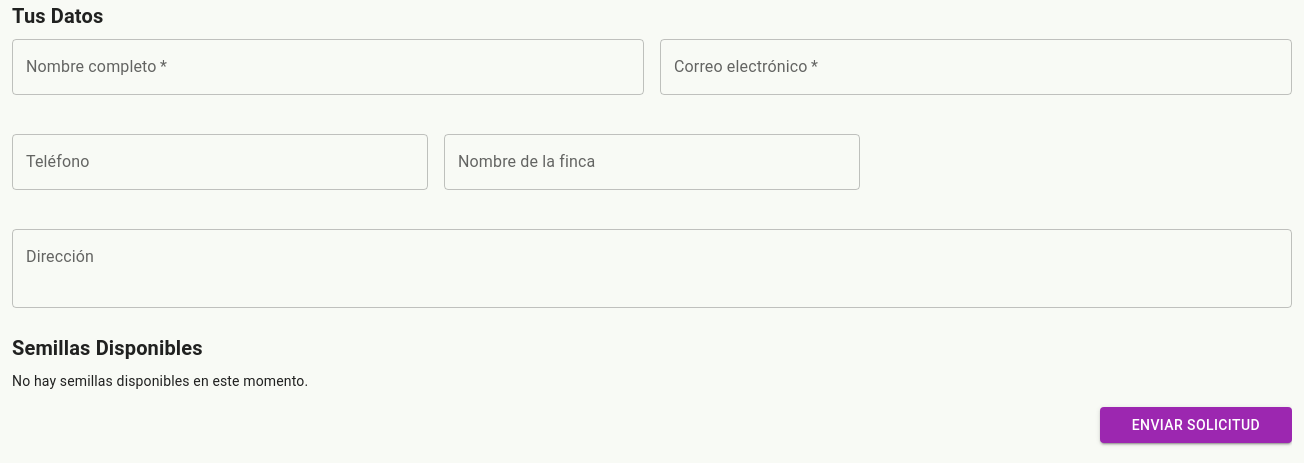
Test: SolicitarForm — Línea Gráfica Pitahaya › inline validation › shows error on email on blur when invalid
Click the field labelled "Correo electrónico *".
click(976, 67)  # box [660,39,1292,95]
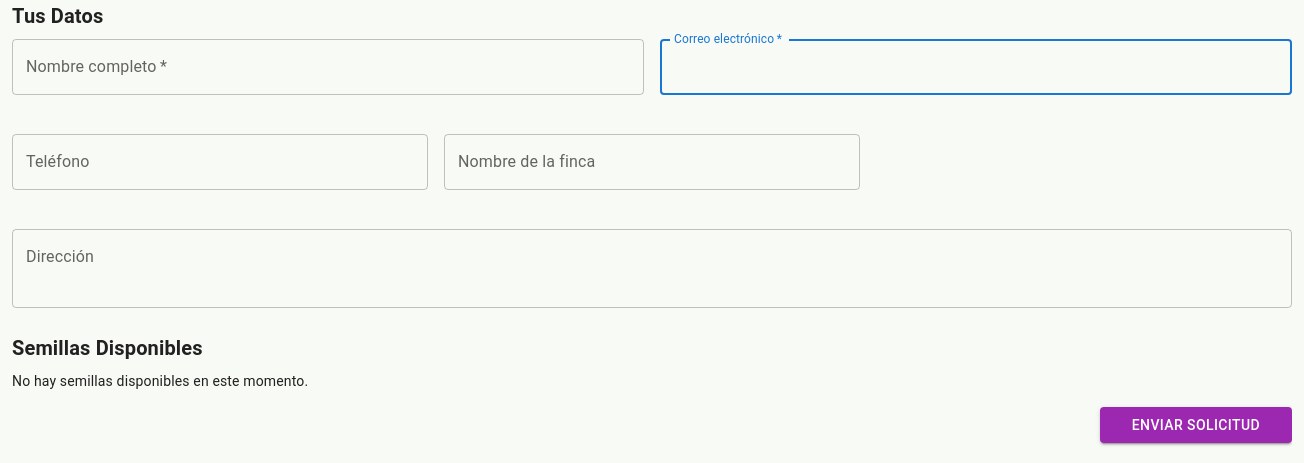
Type keys "correo-invalido"
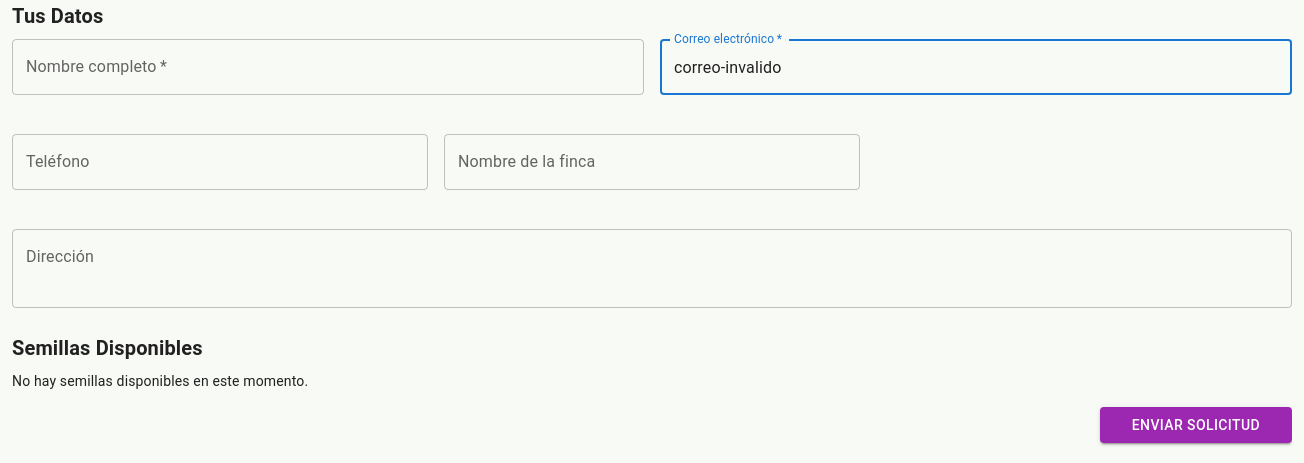
Press Tab
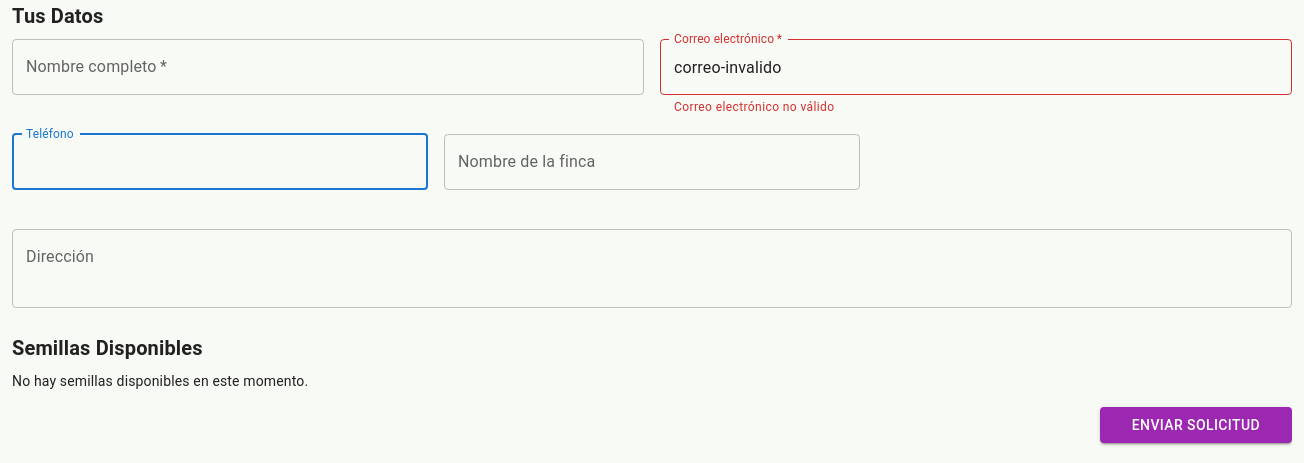
Expected: the text "Correo electrónico no válido" is shown, [674,100,834,114]
